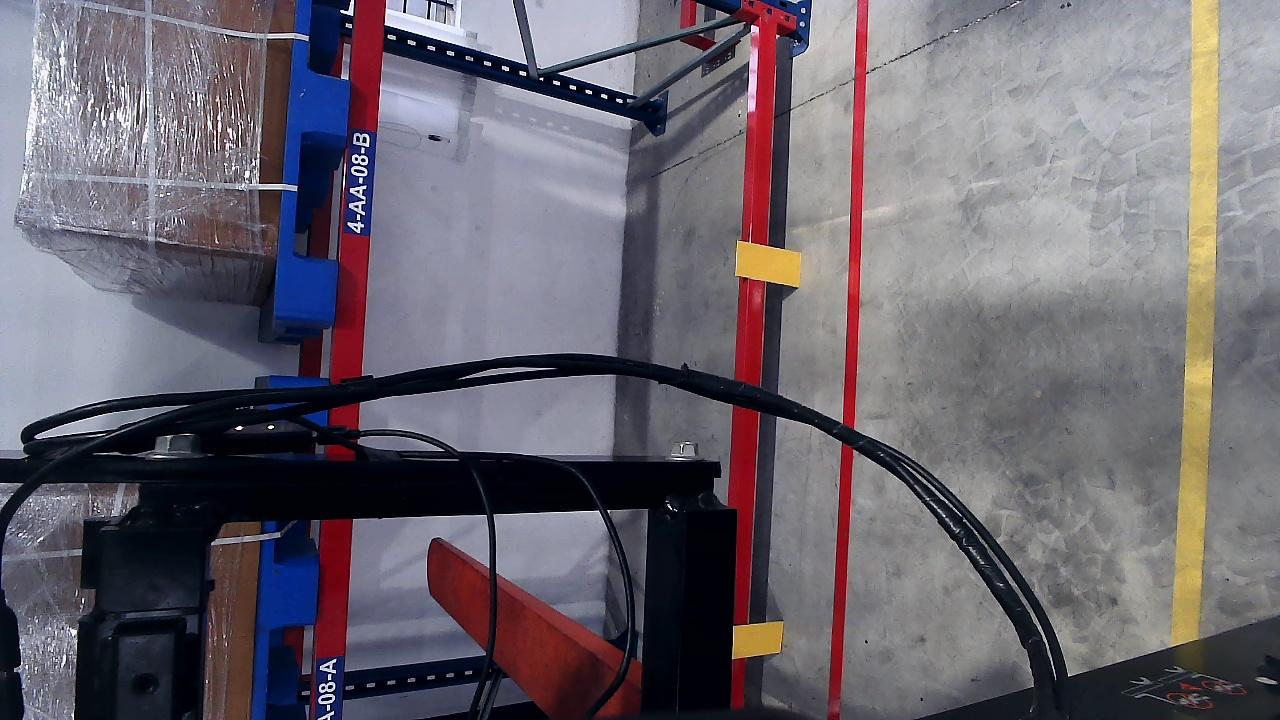h_rack: (734, 27, 780, 708), (331, 0, 389, 377), (311, 435, 359, 718)
orange_strip: (735, 241, 801, 287), (731, 621, 785, 659)
red_line: (840, 8, 869, 704)
small_pallet: (268, 0, 362, 318)
yellow_line: (1172, 53, 1221, 657)
